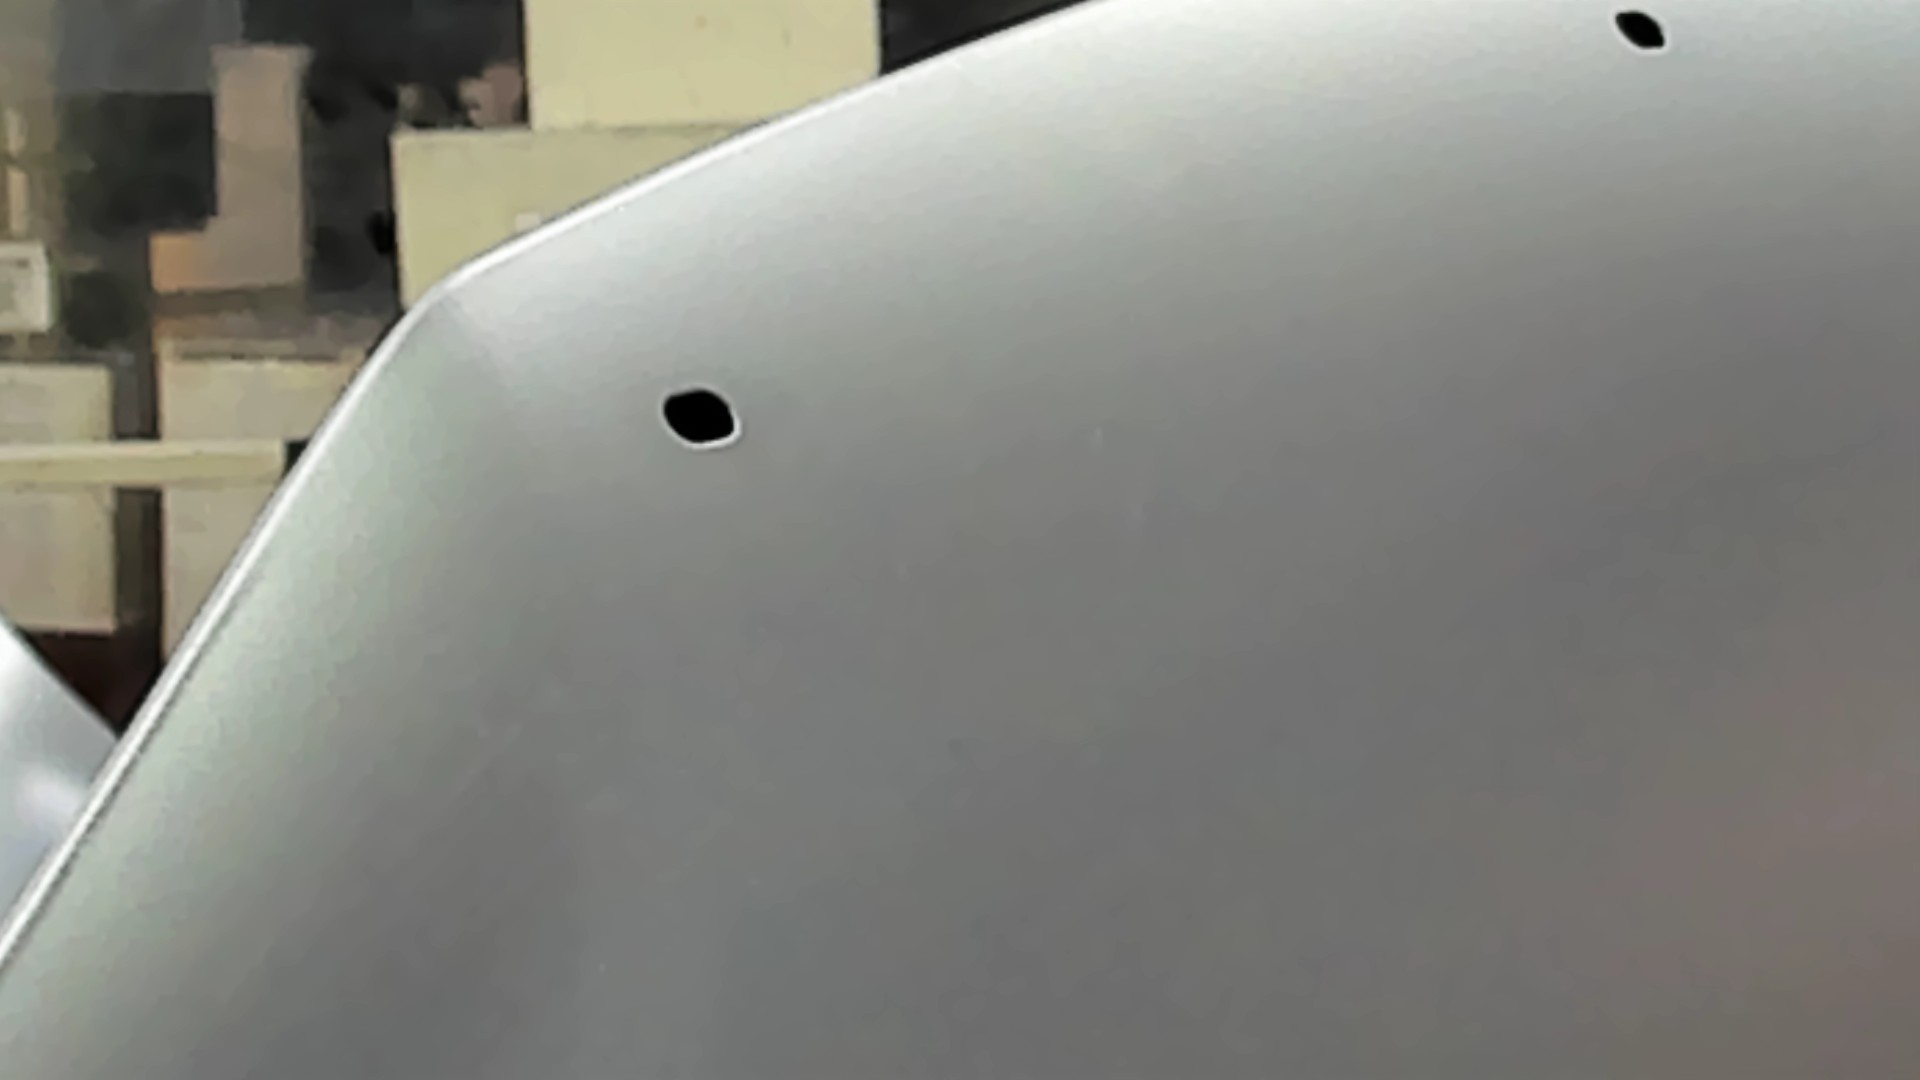amorfo: (659, 385, 746, 451), (1609, 4, 1669, 55)
